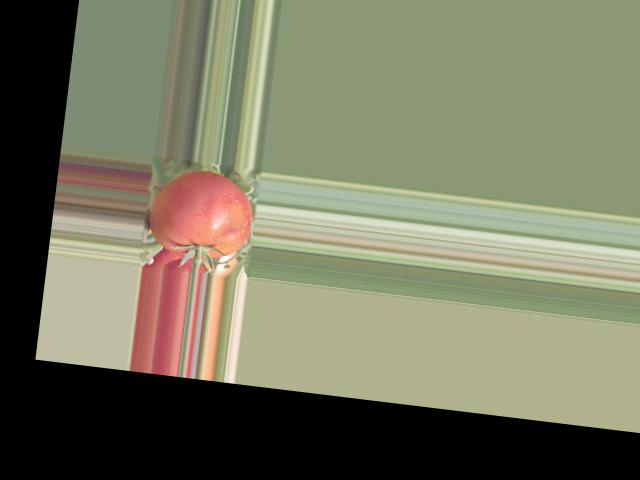tomato: (146, 165, 257, 264)
